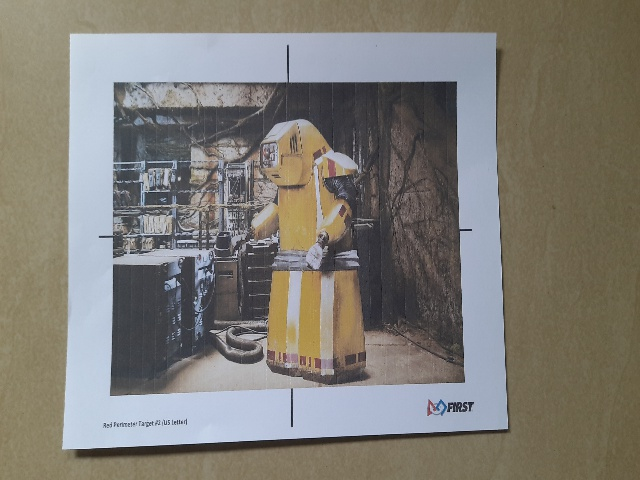rpt2: (87, 58, 487, 431)
